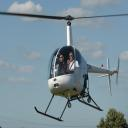helicopter: (1, 19, 128, 124)
